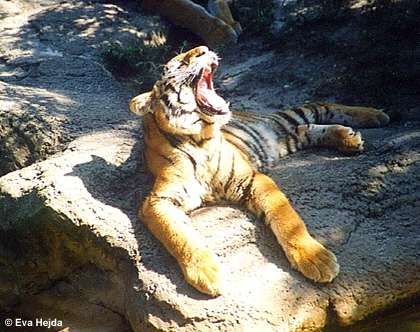Tigre: (114, 35, 375, 273)
